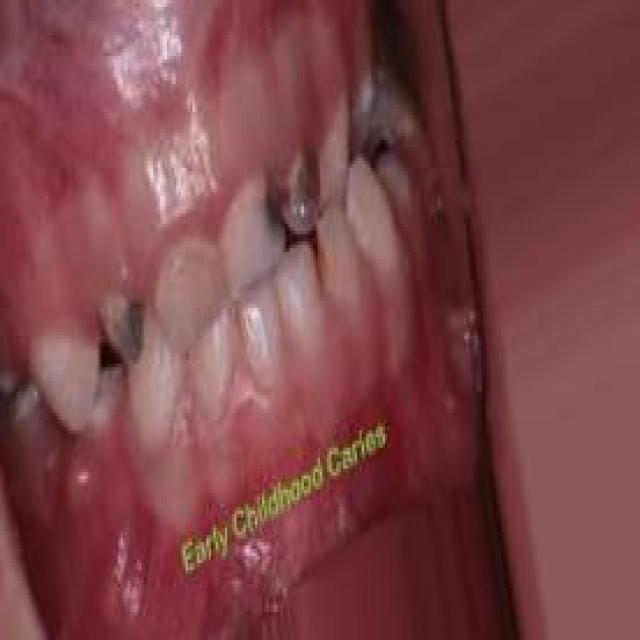caries: (224, 165, 286, 285), (95, 286, 146, 370), (345, 74, 387, 167), (281, 154, 323, 244)
